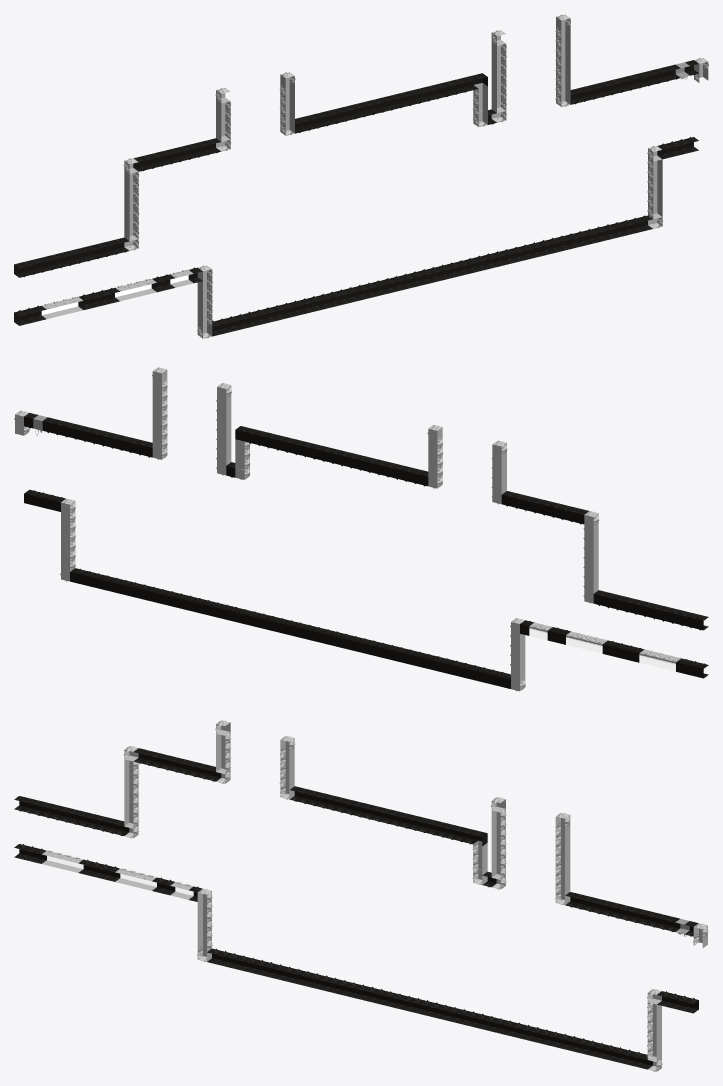
The model's file is Cubi_Room10.fbx.
The picture shows the model from 3 angles, top to bottom: view 1: azimuth 30°, elevation 25°; view 2: azimuth 150°, elevation 25°; view 3: azimuth 330°, elevation 25°; orthographic projection.
Visible parts, largest first — view 1: Cubes_Room10; view 2: Cubes_Room10; view 3: Cubes_Room10.
Part boxes in pixels (x1,y1,x2,y2): Cubes_Room10: [14, 14, 708, 338]; Cubes_Room10: [14, 367, 708, 691]; Cubes_Room10: [14, 720, 708, 1071].
Size of the model in its own units: 7522 by 2545 by 100.
